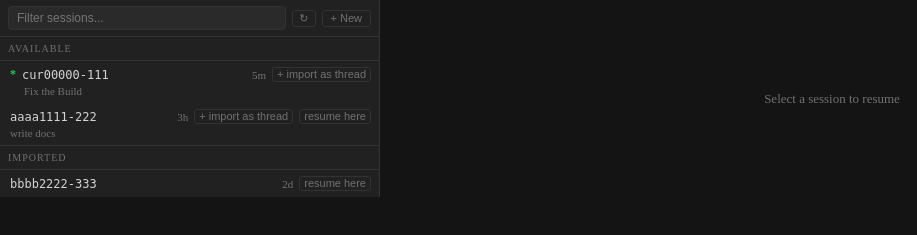
Test: SessionsPanel › resume here › shows a failed switch ({})
Expected: the text "cur00000-111" is shown, [22,68,109,82]
Click the button "resume here" in the row of "3h". click: click(335, 116)
box: [299,109,371,124]
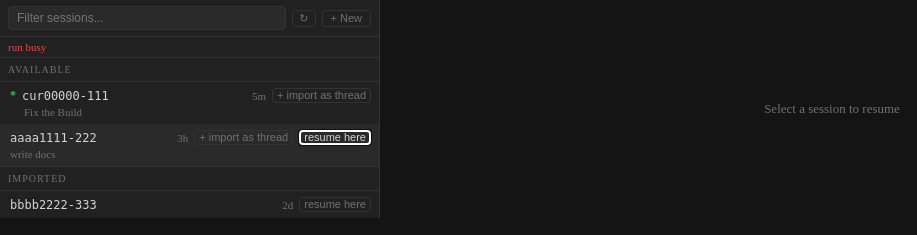
Now the text with test id "session-resume-note" reads "run busy", box [8,41,46,53]
